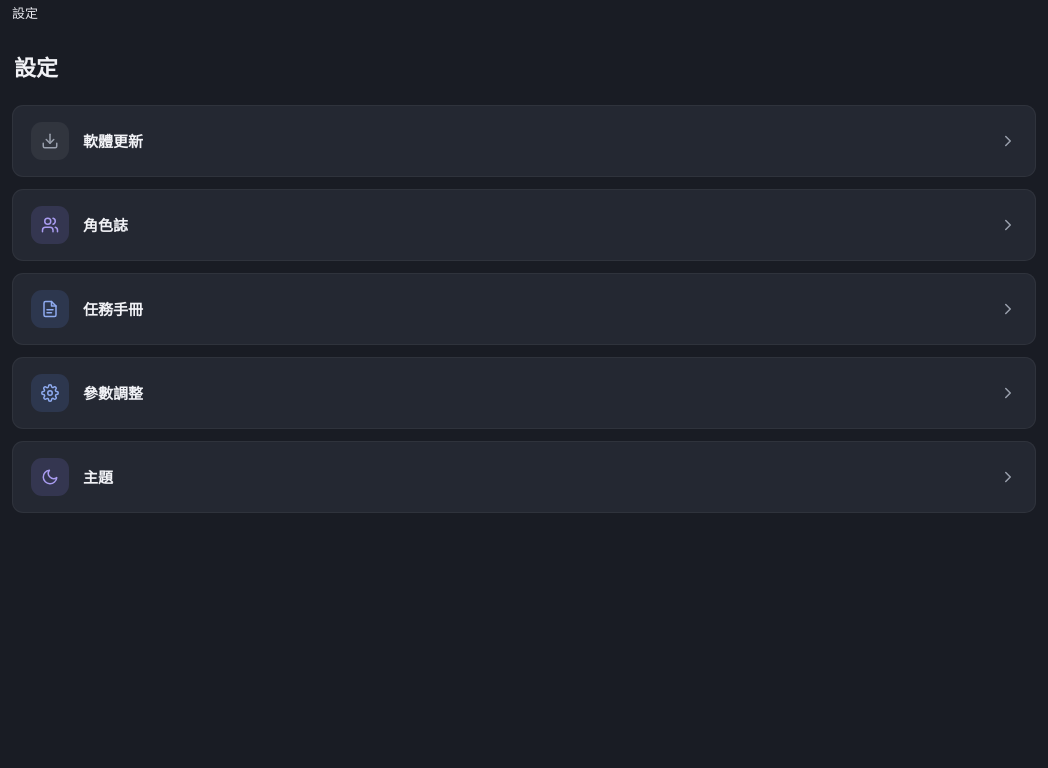
Test: SettingsPage · unified breadcrumb header (T-8f6e) › 角色誌: 設定 › 角色誌 + title, no back button
This screenshot has width=1048, height=768.
Click the button "角色誌" at (50,224), box [12,188,1036,260]
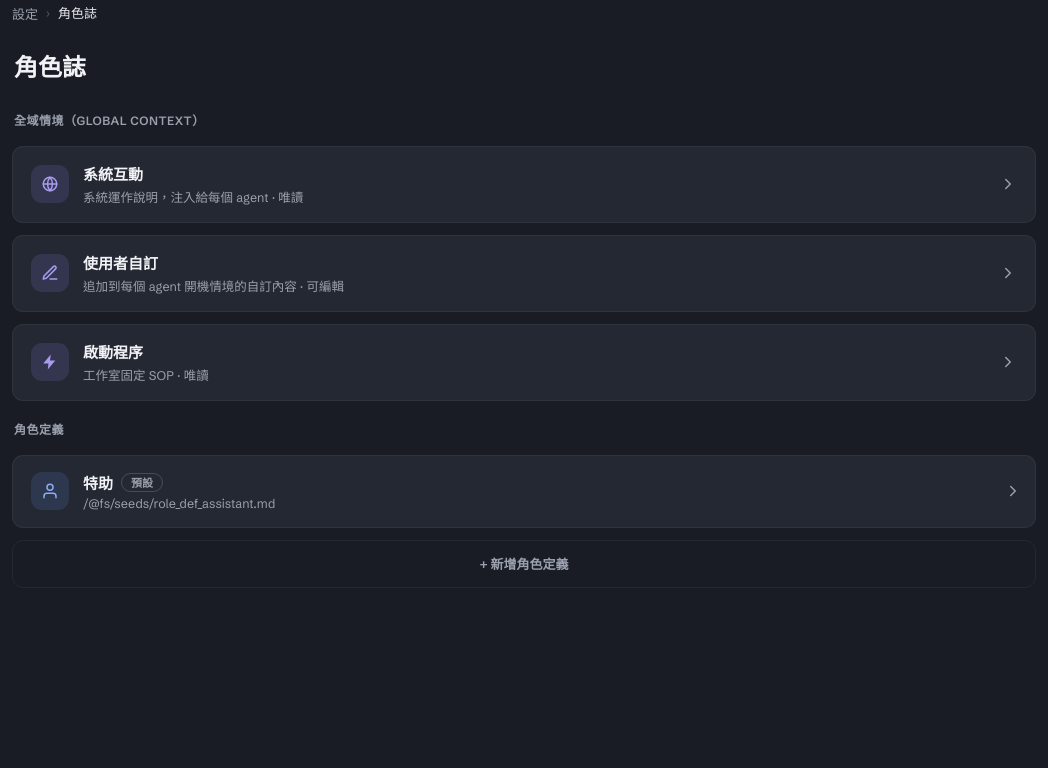
Expected: the text "系統互動" is shown, [83,164,143,184]
Expected: the heading "角色誌" is shown, [14,52,86,82]
